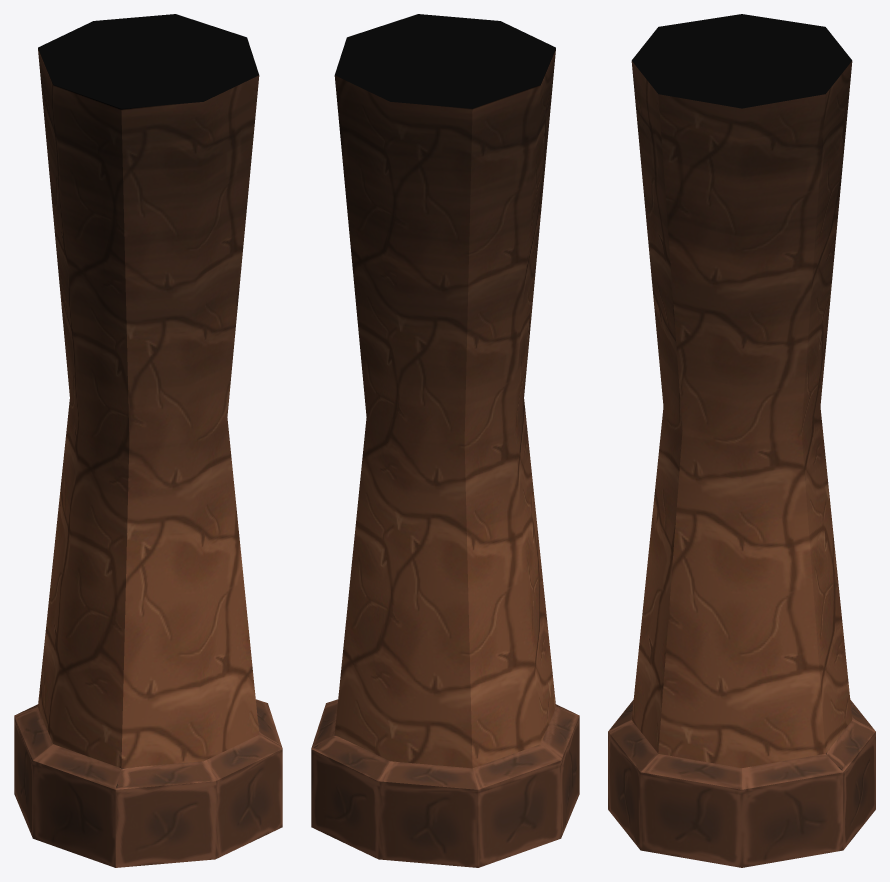
The model's file is Pillar.FBX.
The picture shows the model from 3 angles, left to right: view 1: azimuth 30°, elevation 25°; view 2: azimuth 150°, elevation 25°; view 3: azimuth 270°, elevation 25°; orthographic projection.
Parts seen in each view (by area): view 1: Box008; view 2: Box008; view 3: Box008.
Boxes of the visible parts, x1=… form: Box008: x1=14, y1=14, x2=282, y2=867; Box008: x1=311, y1=14, x2=579, y2=867; Box008: x1=608, y1=14, x2=875, y2=867.
Size of the model in its own units: 333 by 1015 by 329.
